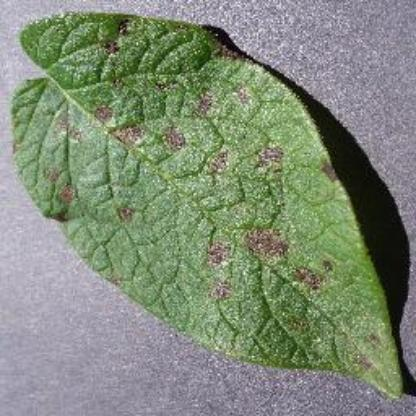Early-Blight: (10, 12, 410, 400)
